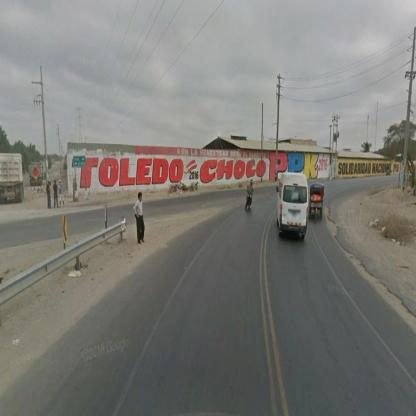Moto: (247, 179, 255, 218)
Peaton: (134, 193, 146, 247), (54, 181, 60, 209), (60, 180, 66, 207), (47, 183, 52, 209), (74, 178, 78, 203)
Pista: (1, 188, 415, 416), (2, 206, 135, 247), (143, 188, 248, 220), (323, 176, 400, 209)
Vehiculo: (277, 176, 308, 238), (1, 151, 24, 209)
